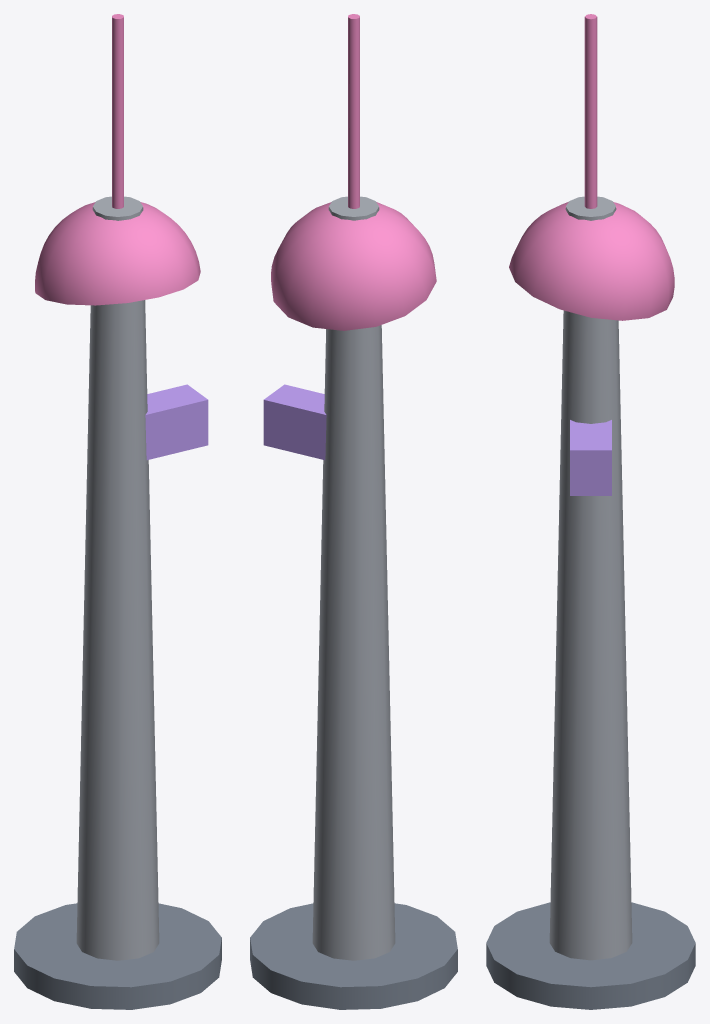
Rendered from combined.glb.
3 views of the same model, side by side, from view 1: azimuth 30°, elevation 25°; view 2: azimuth 150°, elevation 25°; view 3: azimuth 270°, elevation 25° (orthographic).
Bounding box in the file's own units: 0.5 × 2.5 × 0.5.
